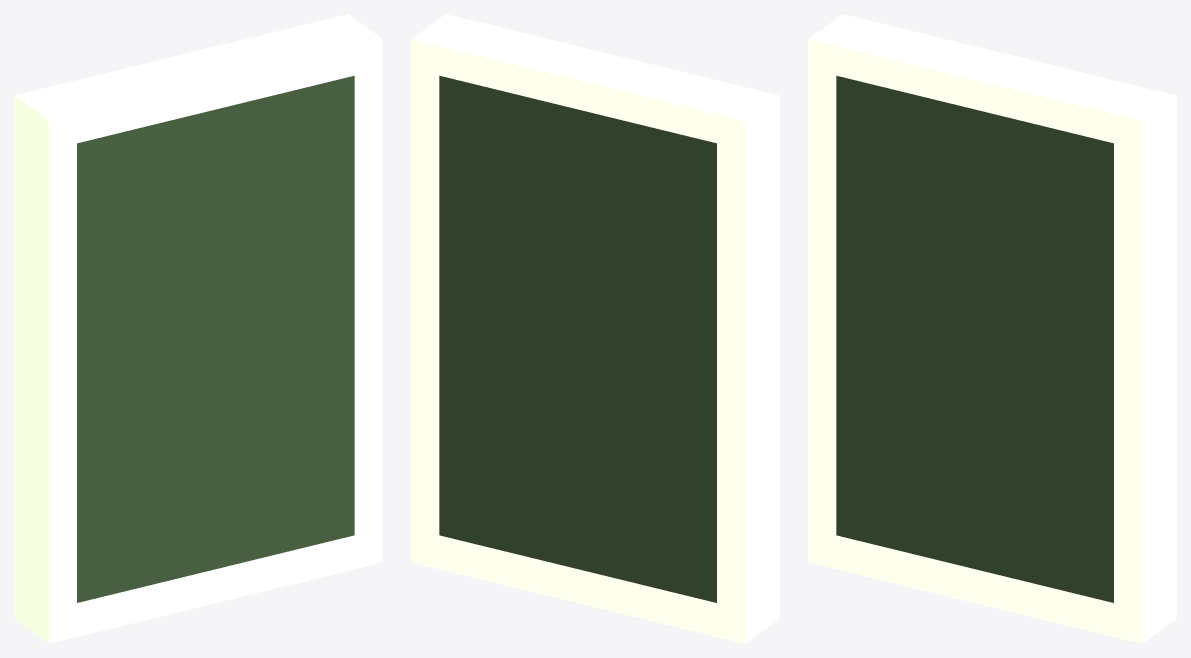
File: coin.fbx
The picture shows the model from 3 angles, left to right: view 1: azimuth 30°, elevation 25°; view 2: azimuth 150°, elevation 25°; view 3: azimuth 330°, elevation 25°; orthographic projection.
Parts seen in each view (by area): view 1: Cube; view 2: Cube; view 3: Cube.
Boxes of the visible parts, x1,y1,x2,y2 form: Cube: (14, 14, 382, 643); Cube: (411, 14, 779, 643); Cube: (808, 14, 1176, 643).
Bounding box in the file's own units: 294 × 440 × 52.45.
